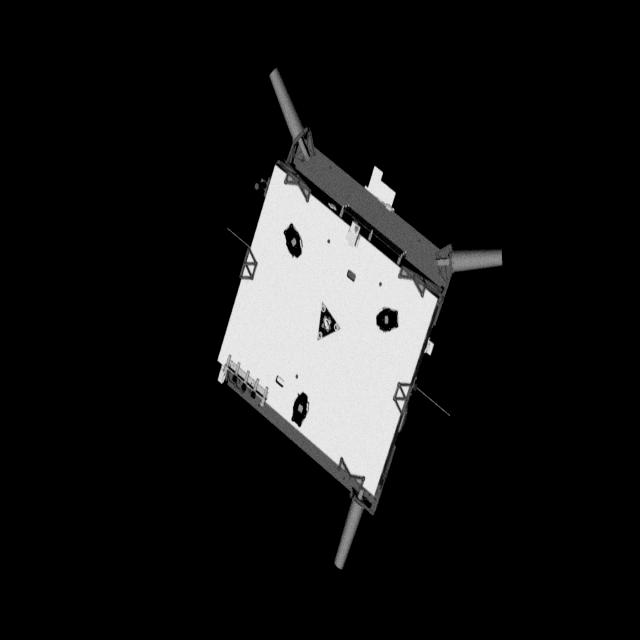medium_debris: (210, 70, 504, 578)
